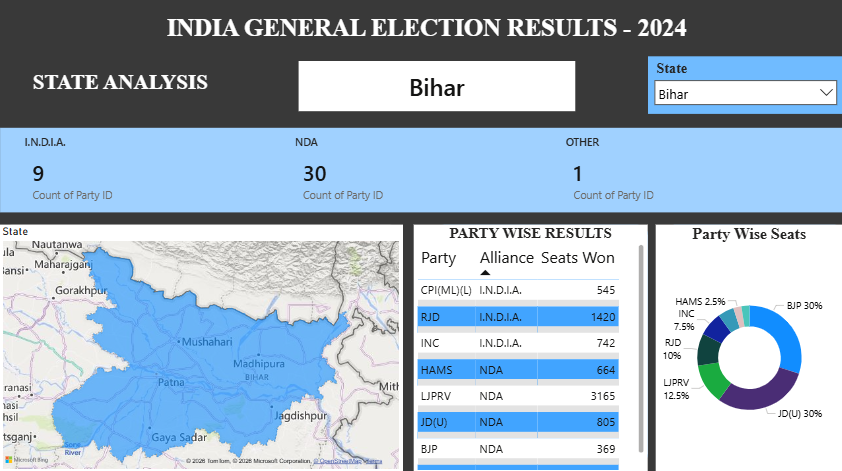

The dashboard page shown, as its layout file describes it:
{"tool":"powerbi","page":{"name":"State Analysis","canvas":[1280,720],"ordinal":1},"visuals":[{"type":"shape","box":[0,0,1279.6,176.4],"z":0},{"type":"textbox","box":[19,0,1259.4,175.8],"z":1000},{"type":"cardVisual","fields":{"Data":["Min(States.State)"]},"box":[447.8,90.4,430,87.5],"z":2000},{"type":"slicer","fields":{"Values":["States.State"]},"box":[983.1,89,296.6,87.5],"z":3000},{"type":"cardVisual","fields":{"Data":["CountNonNull(ConstituencyWiseResults.Party ID)"],"Rows":["ConstituencyWiseResults.All Winning Allience"]},"box":[1.6,196.4,1278.4,128.3],"z":5000},{"type":"shape","box":[0,344,610.9,376.6],"z":6000},{"type":"shape","box":[658.2,344.1,325.1,363.2],"z":7000},{"type":"shape","box":[1010.1,343.7,269.9,376.9],"z":8000},{"type":"tableEx","title":"PARTY WISE RESULTS","fields":{"Values":["PartyWiseResults.PartyShortName","ConstituencyWiseResults.All Winning Allience","ConstituencyWiseResults.Party ID"]},"box":[628.9,324.8,353.3,396],"z":9000},{"type":"donutChart","title":"Party Wise Seats","fields":{"Y":["CountNonNull(ConstituencyWiseResults.Party ID)"],"Category":["ConstituencyWiseResults.party short name constituency level"]},"box":[994.9,324.8,283.6,394.5],"z":10000},{"type":"filledMap","fields":{"Category":["States.State"]},"box":[0,344,610.9,375.1],"z":11000},{"type":"textbox","box":[0,86,367.7,90.4],"z":12000}]}

Visuals, with their boxes in screenshot pixels (x1, y1, x2, y2), scaled from the page's 1280x720 canvas onto the 842x471 screenshot:
shape: <bbox>0, 0, 841, 115</bbox>
textbox: <bbox>12, 0, 841, 115</bbox>
cardVisual - Min(States.State): <bbox>295, 59, 577, 116</bbox>
slicer - States.State: <bbox>647, 58, 841, 115</bbox>
cardVisual - CountNonNull(ConstituencyWiseResults.Party ID) x ConstituencyWiseResults.All Winning Allience: <bbox>1, 128, 841, 212</bbox>
shape: <bbox>0, 225, 402, 470</bbox>
shape: <bbox>433, 225, 647, 463</bbox>
shape: <bbox>664, 225, 841, 470</bbox>
"PARTY WISE RESULTS" tableEx: <bbox>414, 212, 646, 470</bbox>
"Party Wise Seats" donutChart: <bbox>654, 212, 841, 470</bbox>
filledMap - States.State: <bbox>0, 225, 402, 470</bbox>
textbox: <bbox>0, 56, 242, 115</bbox>
